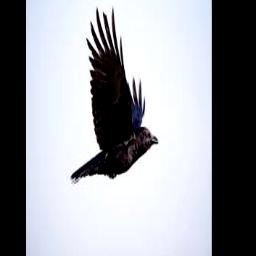Crow: (71, 7, 159, 182)
